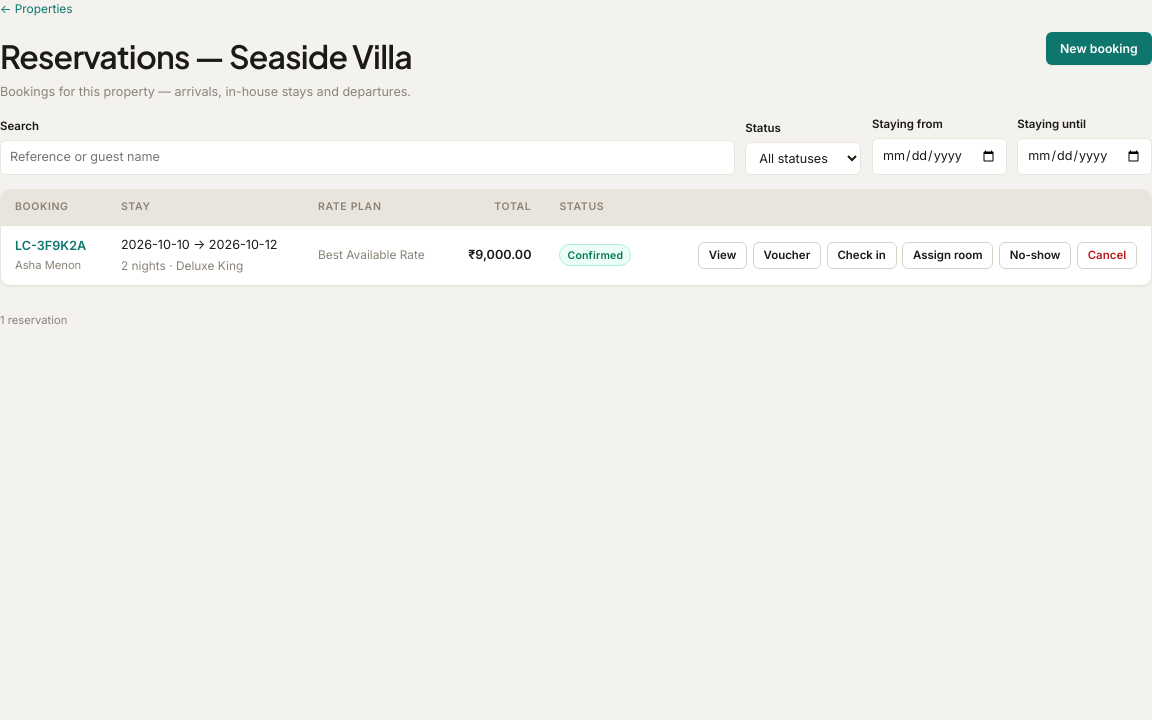
Test: ReservationsPage › shows an occupied room as non-selectable in the picker
Click the button "Assign room".
click(948, 255)  # box [902,242,993,269]
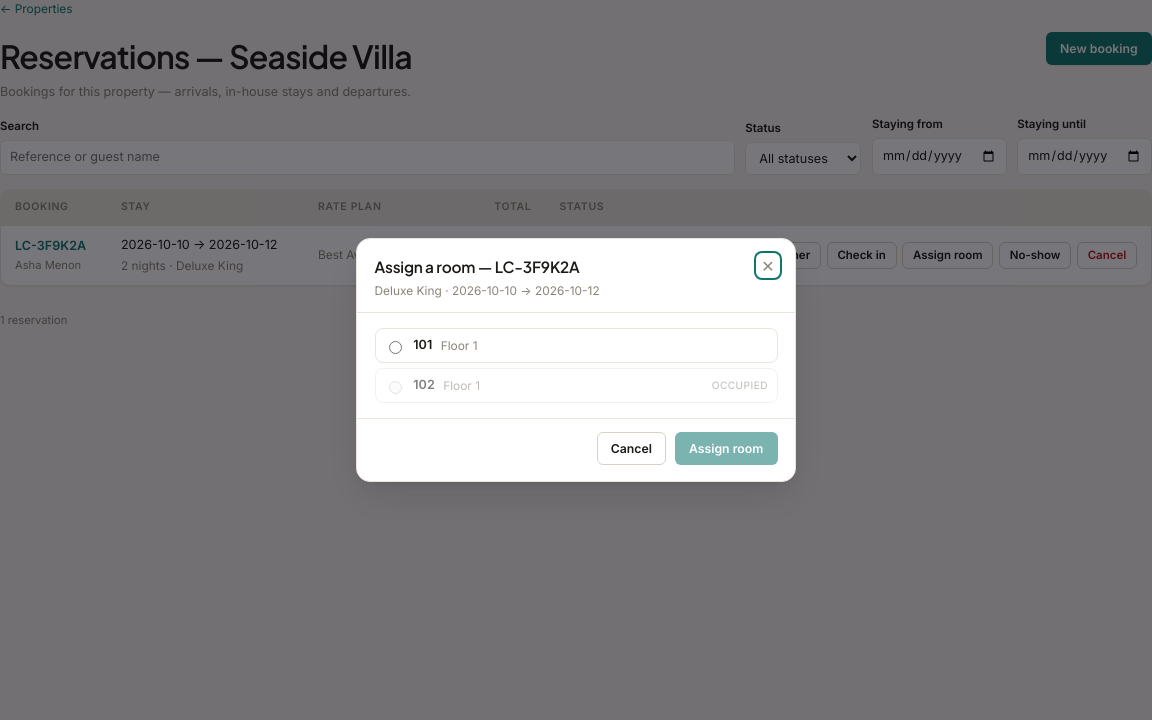
Expected: the radio button labelled "102 Floor 1 Occupied" is disabled, [389,380,402,394]
Expected: the radio button labelled "101 Floor 1" is enabled, [389,341,402,354]
Expected: the text "Occupied" is shown, [712,378,768,393]
